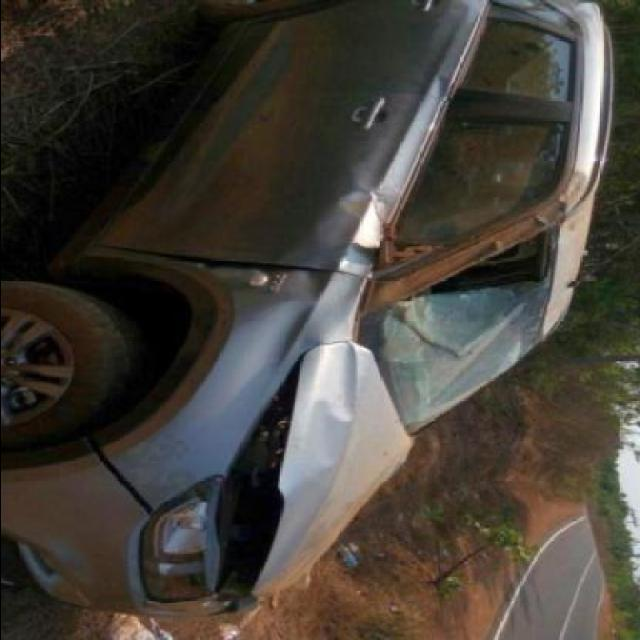Front-Windscreen-Damage: (364, 274, 561, 436)
front-bumper-dent: (206, 344, 360, 618)
